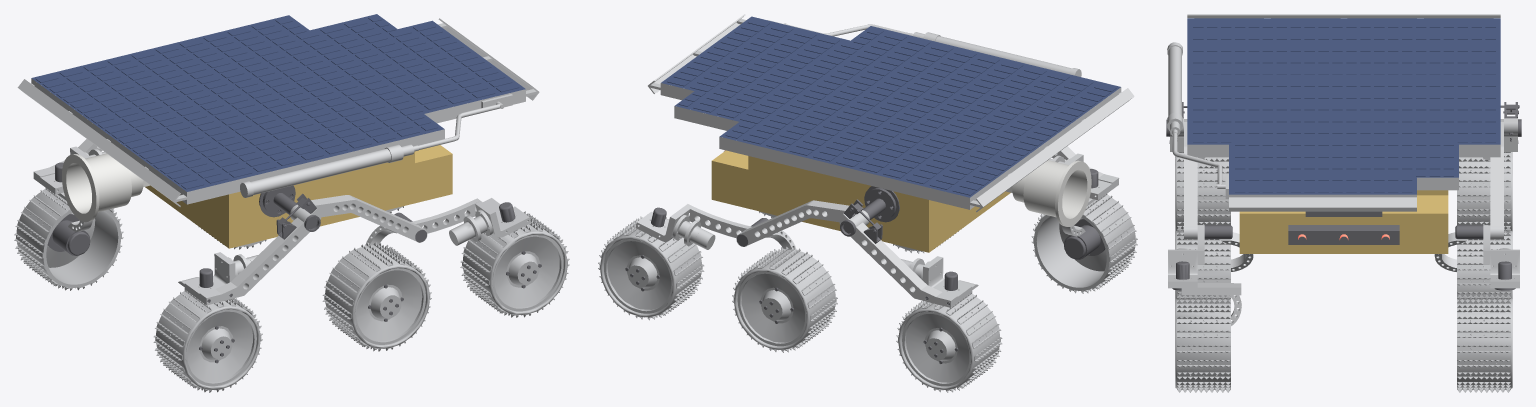
The model's file is sojourner.glb.
The picture shows the model from 3 angles, left to right: view 1: azimuth 30°, elevation 25°; view 2: azimuth 150°, elevation 25°; view 3: azimuth 270°, elevation 25°; orthographic projection. The views are drawn at different scales.
Parts seen in each view (by area): view 1: solar-panel, six-wheels, warm-electronics-box, rocker-bogie, apxs, uhf-antenna; view 2: solar-panel, six-wheels, warm-electronics-box, rocker-bogie, apxs, uhf-antenna; view 3: solar-panel, six-wheels, warm-electronics-box, rocker-bogie, hazard-lasers, uhf-antenna, cameras.
Boxes of the visible parts, bbox=[...] form: solar-panel: bbox=[17, 14, 539, 206]; six-wheels: bbox=[14, 146, 569, 392]; warm-electronics-box: bbox=[145, 145, 452, 248]; rocker-bogie: bbox=[33, 139, 500, 305]; apxs: bbox=[62, 153, 149, 222]; uhf-antenna: bbox=[240, 101, 504, 197]; solar-panel: bbox=[648, 14, 1134, 212]; six-wheels: bbox=[598, 153, 1137, 392]; warm-electronics-box: bbox=[711, 150, 1010, 252]; rocker-bogie: bbox=[685, 146, 1119, 307]; apxs: bbox=[1005, 160, 1091, 226]; uhf-antenna: bbox=[784, 23, 1081, 76]; solar-panel: bbox=[1187, 14, 1500, 211]; six-wheels: bbox=[1168, 152, 1519, 392]; warm-electronics-box: bbox=[1239, 190, 1448, 253]; rocker-bogie: bbox=[1166, 102, 1521, 325]; hazard-lasers: bbox=[1288, 225, 1399, 244]; uhf-antenna: bbox=[1167, 42, 1225, 188]; cameras: bbox=[1305, 211, 1382, 216].
Size of the model in its own units: 0.6819 by 0.3265 by 0.51.
